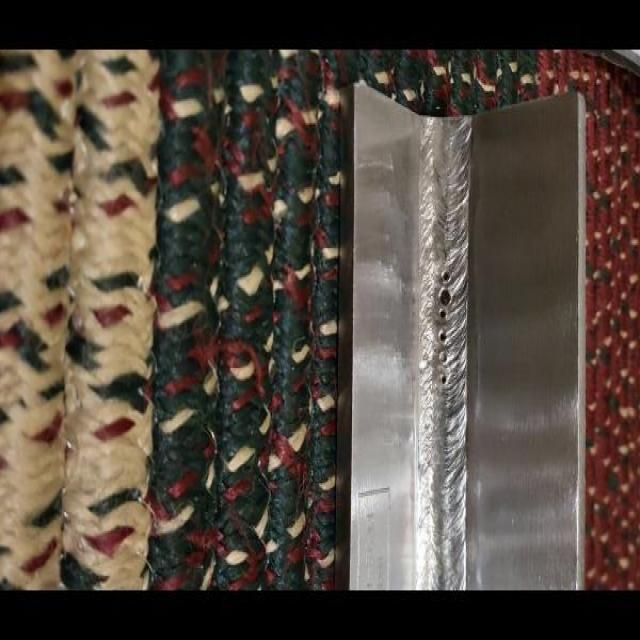Welding Line: (421, 114, 467, 590)
Workpiece: (347, 89, 581, 588)
porosity: (438, 270, 451, 382)
